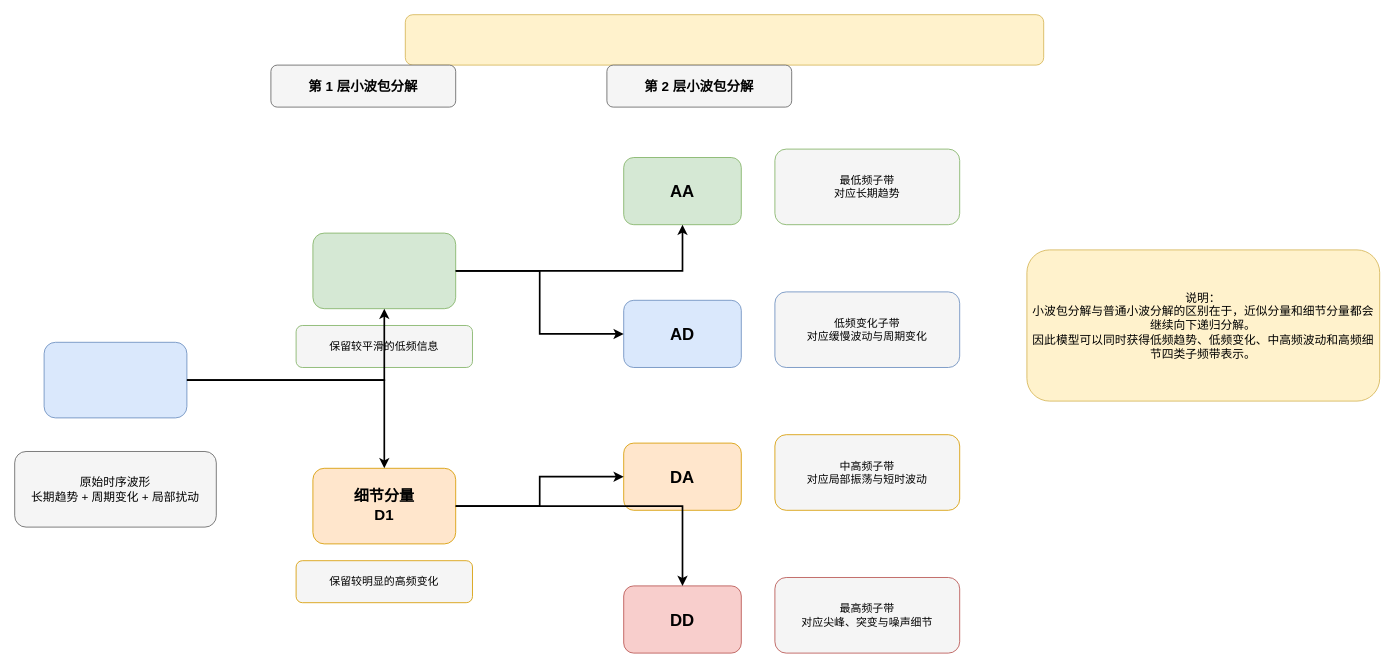
Some shapes in this 1394 by 668 pixel diagram are drawn without their labels. Here are the shapes that lost their labels. From the top down, the centre of each, then its label:
At point 724,39: "图 4.2 两层小波包分解及子频带结构示意图".
At point 384,270: "近似分量 A1".
At point 115,379: "输入序列 X".
